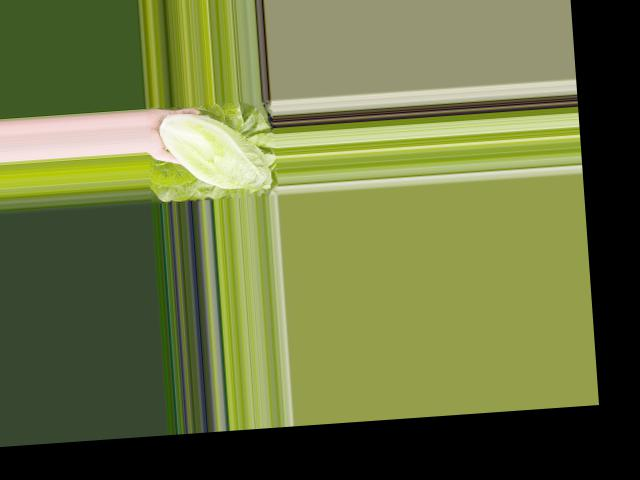lettuce: (156, 104, 273, 197)
